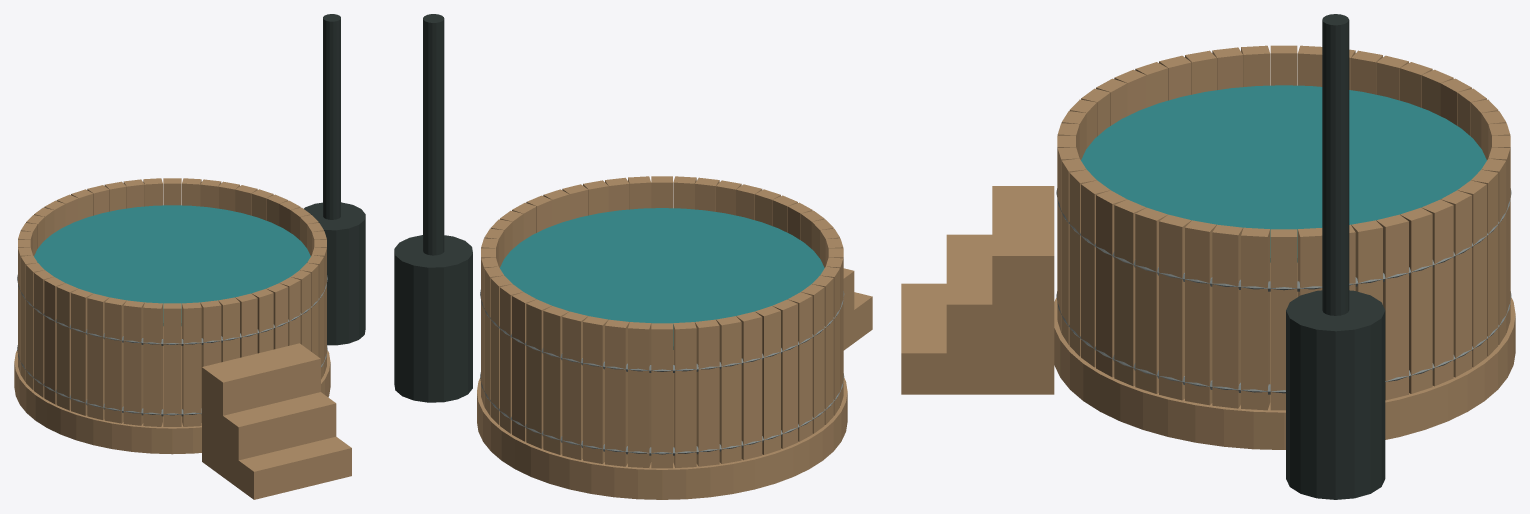
Rendered from tub.glb.
3 views of the same model, side by side, from view 1: azimuth 30°, elevation 25°; view 2: azimuth 150°, elevation 25°; view 3: azimuth 270°, elevation 25° (orthographic). The views are drawn at different scales.
Visible parts, largest first — view 1: tub_Modrin, tub_Voda, tub_Antracit, tub_Ocel; view 2: tub_Modrin, tub_Voda, tub_Antracit, tub_Ocel; view 3: tub_Modrin, tub_Voda, tub_Antracit, tub_Ocel.
Part boxes in pixels (left/top/right/bottom): tub_Modrin: left=14, top=178, right=351, bottom=499; tub_Voda: left=34, top=205, right=310, bottom=325; tub_Antracit: left=304, top=14, right=365, bottom=345; tub_Ocel: left=17, top=275, right=327, bottom=416; tub_Modrin: left=477, top=176, right=872, bottom=499; tub_Voda: left=500, top=208, right=824, bottom=349; tub_Antracit: left=394, top=14, right=472, bottom=402; tub_Ocel: left=480, top=290, right=844, bottom=455; tub_Modrin: left=901, top=45, right=1515, bottom=449; tub_Voda: left=1081, top=85, right=1486, bottom=262; tub_Antracit: left=1286, top=14, right=1385, bottom=499; tub_Ocel: left=1056, top=188, right=1511, bottom=394.
Bounding box in the file's own units: 2.81 × 2.49 × 2.97.
